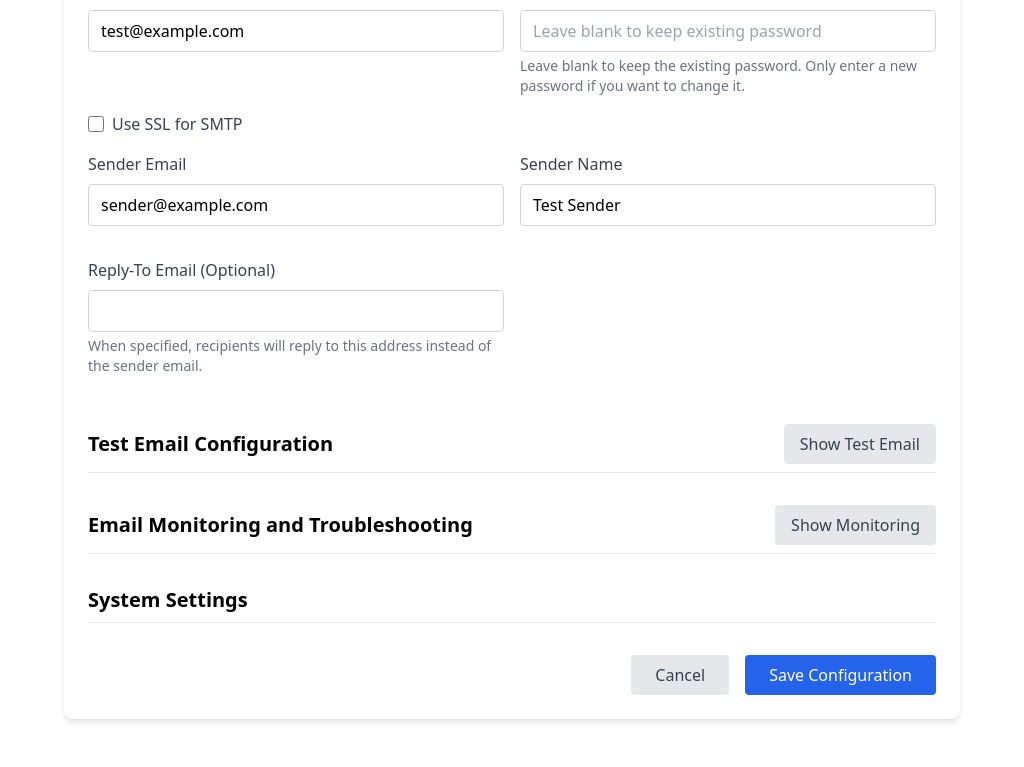
Scenario: Test Email Functionality › Basic Test Email Sending › should send a basic test email successfully
(page scrolled)
Note: Expand the Test Email Configuration section
Click the button "Show Test Email".
click(860, 444)  # box x1=784 y1=424 x2=936 y2=464
(page scrolled)
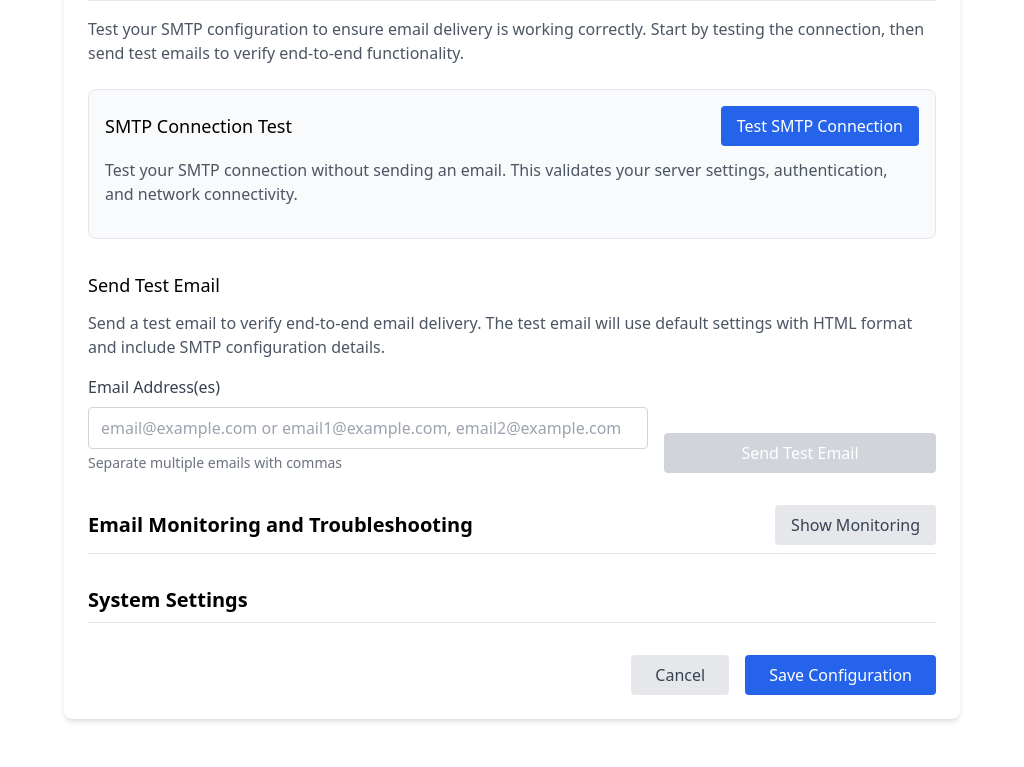
Now the field with placeholder "email@example.com or email1@example.com, email2@example.com" is shown
Note: Fill email address
Type "test@example.com" into the field with placeholder "email@example.com or email1@example.com, email2@example.com".
click(368, 428); type("test@example.com")  # box x1=88 y1=407 x2=648 y2=449
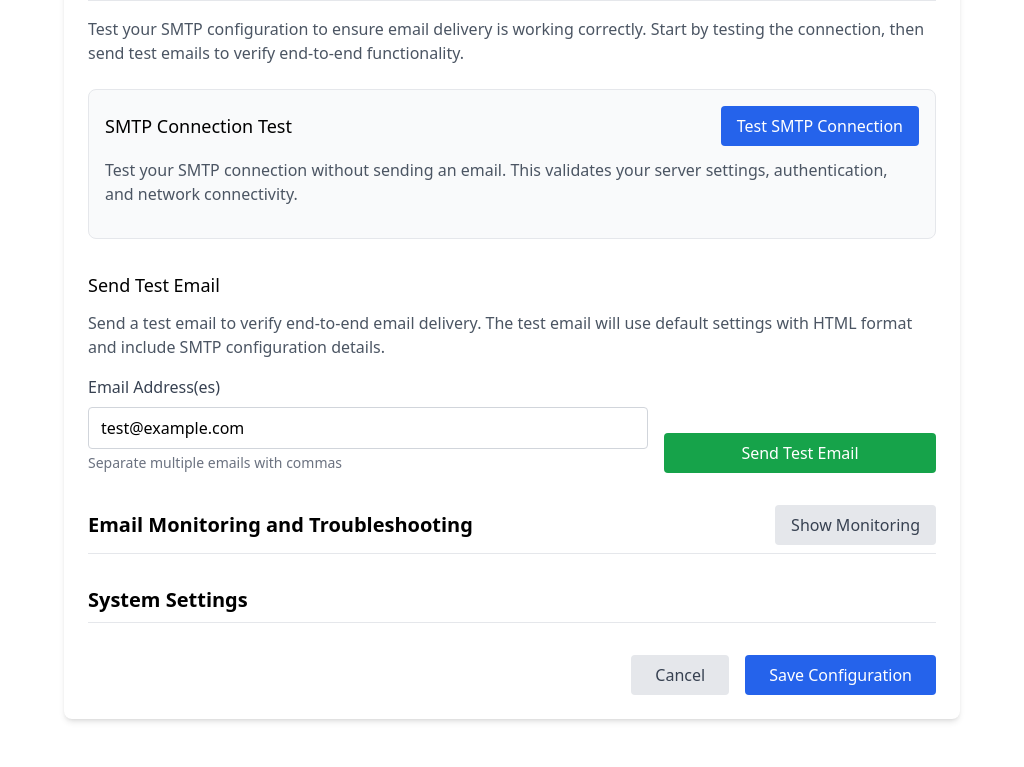
Note: Click send test email button using a more specific selector
Click the button "Send Test Email".
click(800, 453)  # box x1=664 y1=433 x2=936 y2=473
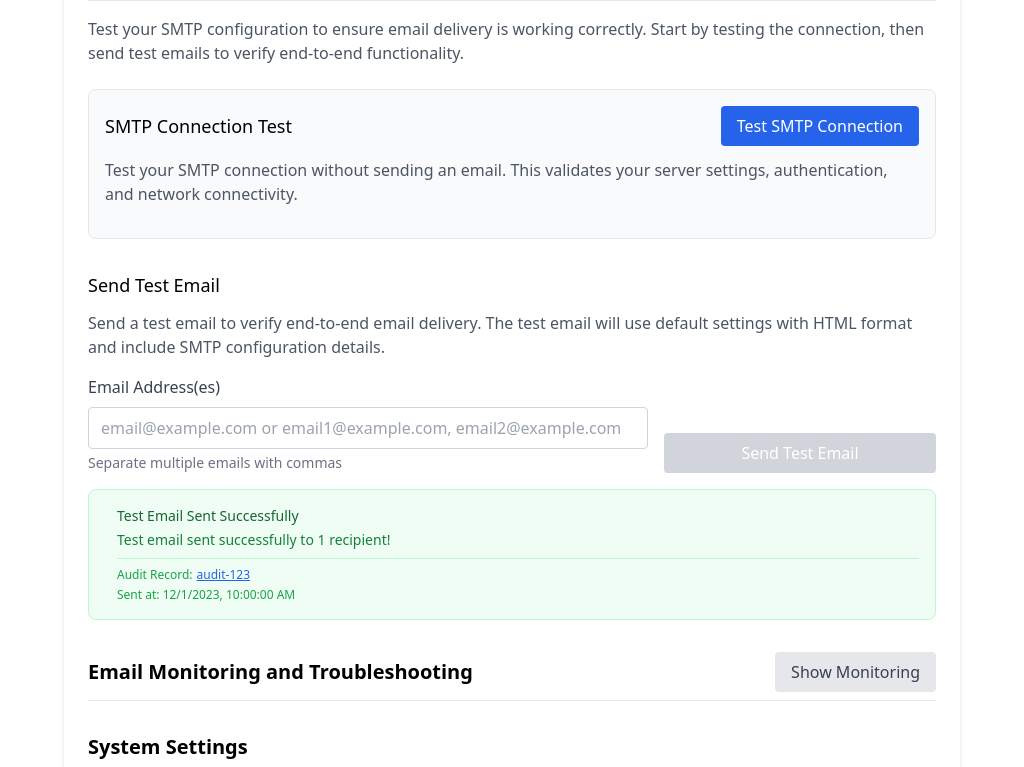
Now the text "Test email sent successfully to 1 recipient!" is shown, box x1=117 y1=530 x2=390 y2=549
